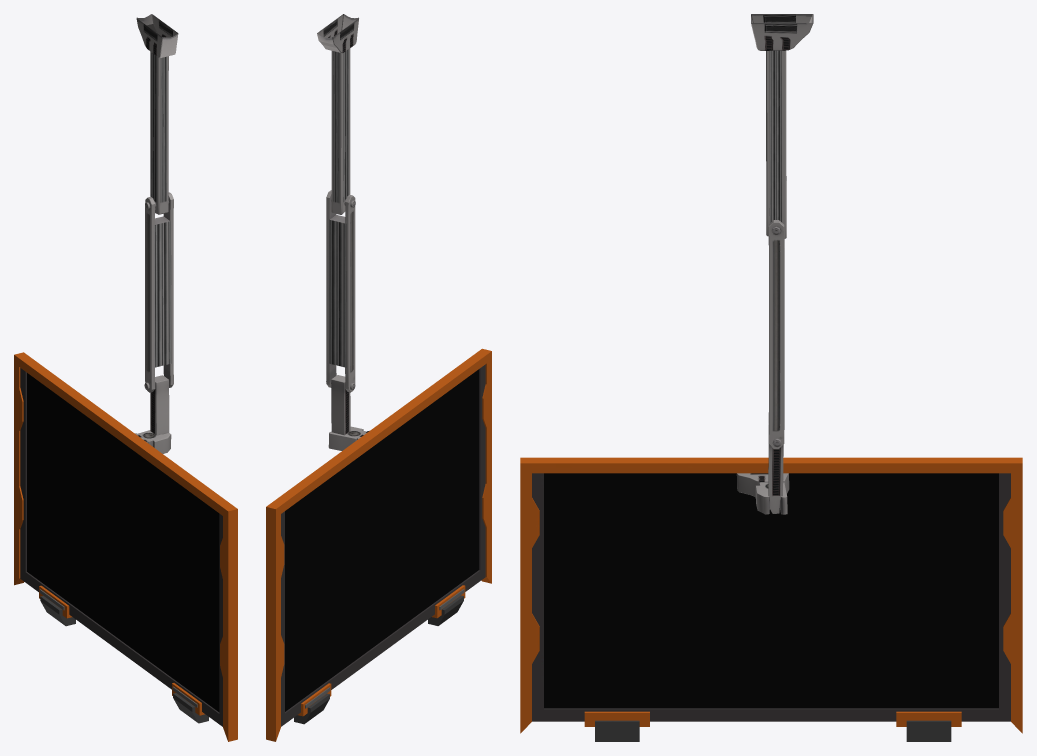
File: screenLED.fbx
The picture shows the model from 3 angles, left to right: view 1: azimuth 30°, elevation 25°; view 2: azimuth 150°, elevation 25°; view 3: azimuth 270°, elevation 25°; orthographic projection. The views are drawn at different scales.
Parts seen in each view (by area): view 1: Screen, Joint_03, Joint_05, Joint_02, Joint_01; view 2: Screen, Joint_03, Joint_05, Joint_02, Joint_01; view 3: Screen, Joint_05, Joint_03, Joint_01, Joint_02.
Boxes of the visible parts, x1,y1,x2,y2 form: Screen: (14, 352, 237, 741); Joint_03: (145, 192, 173, 392); Joint_05: (136, 14, 178, 214); Joint_02: (150, 375, 169, 435); Joint_01: (135, 430, 171, 453); Screen: (266, 348, 491, 741); Joint_03: (326, 190, 355, 392); Joint_05: (317, 14, 358, 214); Joint_02: (331, 375, 350, 435); Joint_01: (328, 426, 369, 450); Screen: (520, 457, 1022, 741); Joint_05: (751, 14, 813, 238); Joint_03: (768, 220, 784, 449); Joint_01: (736, 473, 789, 514); Joint_02: (768, 444, 783, 513).
Bounding box in the file's own units: 57.96 × 609 × 375.
Materials: 2 (2 with a texture image).
